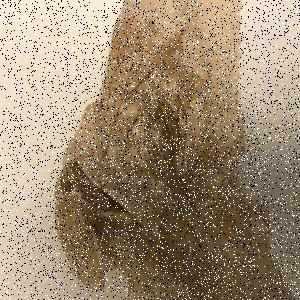Trash: (55, 2, 293, 300)
